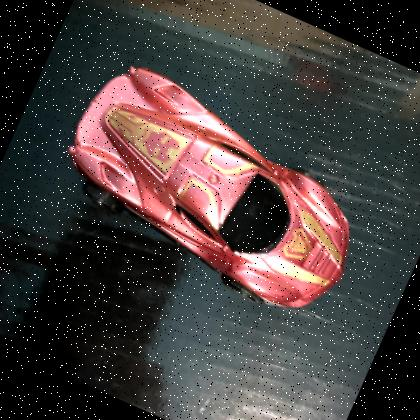Car: (37, 48, 390, 336)
